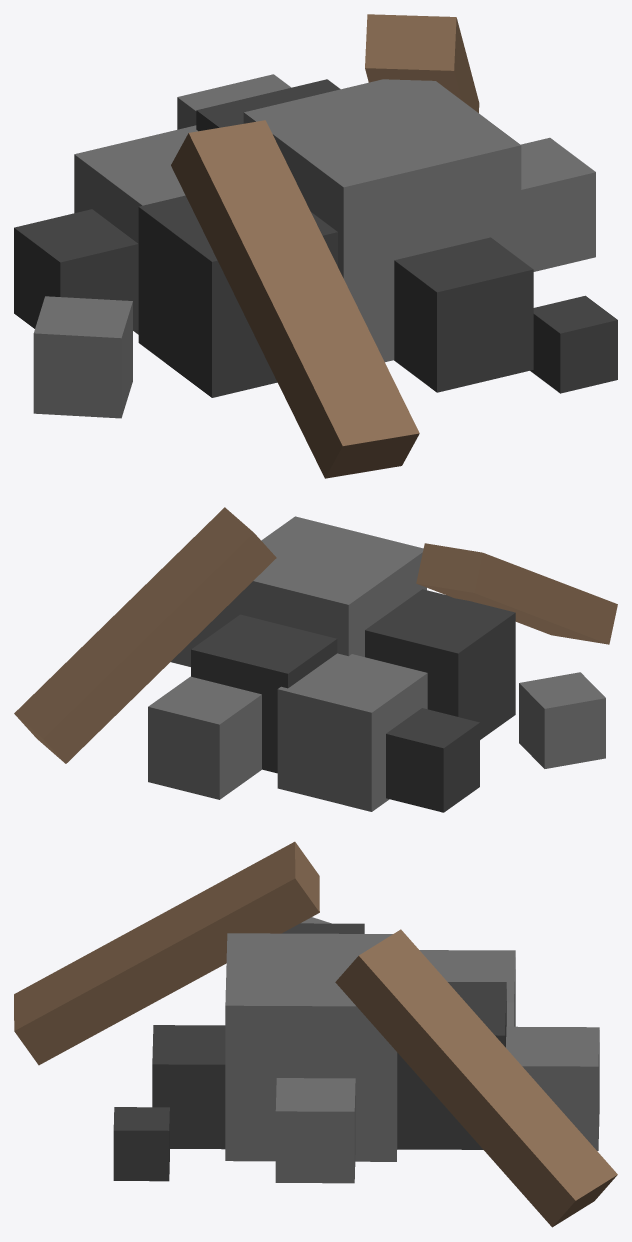
The model's file is Prop_Rubble_001_FreeStanding_001.fbx.
3 renders of one model, top to bottom at view 1: azimuth 30°, elevation 25°; view 2: azimuth 150°, elevation 25°; view 3: azimuth 270°, elevation 25°, orthographic. The views are drawn at different scales.
Visible parts, largest first — view 1: Prop_Rubble_001_FreeStanding_001; view 2: Prop_Rubble_001_FreeStanding_001; view 3: Prop_Rubble_001_FreeStanding_001.
Part boxes in pixels (<box>): Prop_Rubble_001_FreeStanding_001: <box>14,14,617,478</box>; Prop_Rubble_001_FreeStanding_001: <box>14,507,617,812</box>; Prop_Rubble_001_FreeStanding_001: <box>14,841,617,1227</box>.
Size of the model in its own units: 240 by 99.41 by 242.
